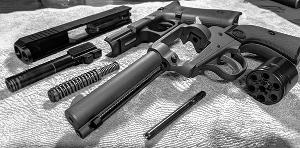handgun: (18, 10, 130, 49), (46, 56, 120, 106), (5, 43, 104, 69)
